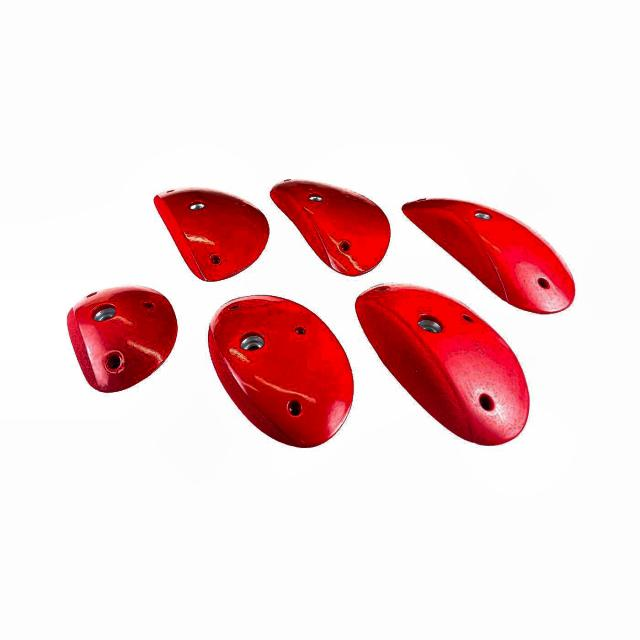Hold: (358, 290, 530, 446), (203, 292, 358, 449), (399, 188, 581, 316), (270, 173, 394, 281), (64, 284, 180, 391), (152, 184, 269, 281)
